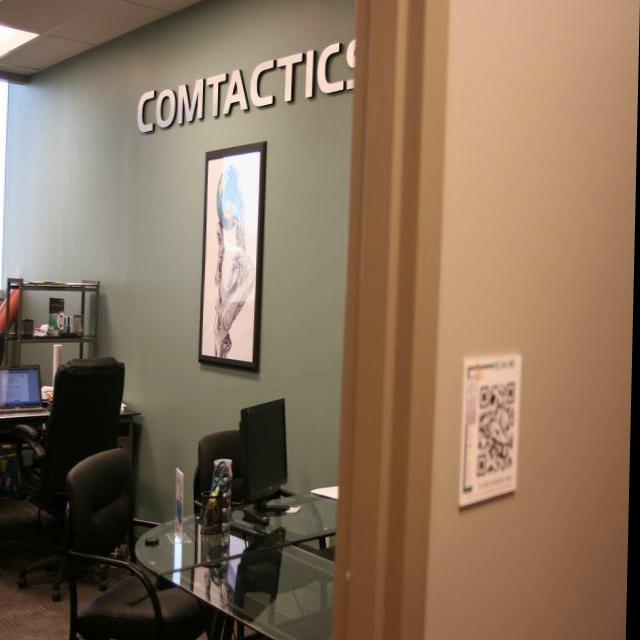qrcode: (481, 383, 518, 478)
